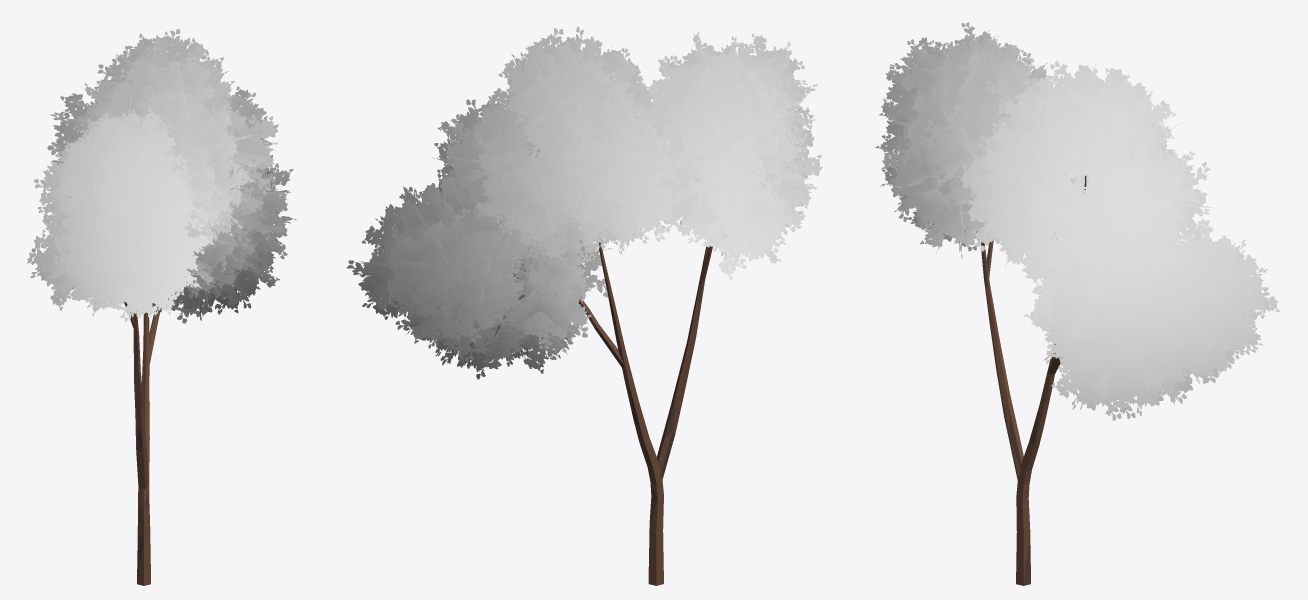
The model's file is mesh_tree_oak_04.fbx.
The picture shows the model from 3 angles, left to right: view 1: azimuth 30°, elevation 25°; view 2: azimuth 150°, elevation 25°; view 3: azimuth 270°, elevation 25°; orthographic projection. The views are drawn at different scales.
Visible parts, largest first — view 1: mesh_tree_oak_04_leaves, mesh_tree_oak_04_trunk_LOD0; view 2: mesh_tree_oak_04_leaves, mesh_tree_oak_04_trunk_LOD0; view 3: mesh_tree_oak_04_leaves, mesh_tree_oak_04_trunk_LOD0.
Part boxes in pixels (x1=…): mesh_tree_oak_04_leaves: x1=27, y1=29, x2=296, y2=323; mesh_tree_oak_04_trunk_LOD0: x1=69, y1=84, x2=161, y2=585; mesh_tree_oak_04_leaves: x1=346, y1=26, x2=822, y2=379; mesh_tree_oak_04_trunk_LOD0: x1=487, y1=154, x2=712, y2=585; mesh_tree_oak_04_leaves: x1=875, y1=22, x2=1279, y2=420; mesh_tree_oak_04_trunk_LOD0: x1=981, y1=175, x2=1086, y2=585.
Size of what is drawn, in the model's own units: 4.72 by 7.09 by 4.94.
